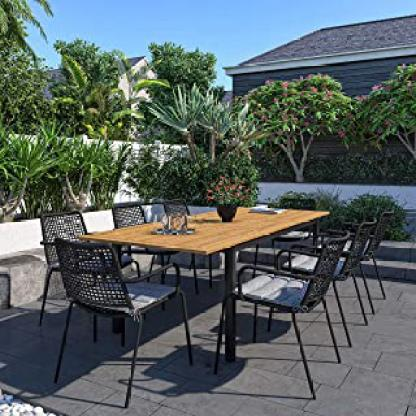table: (57, 197, 335, 373)
